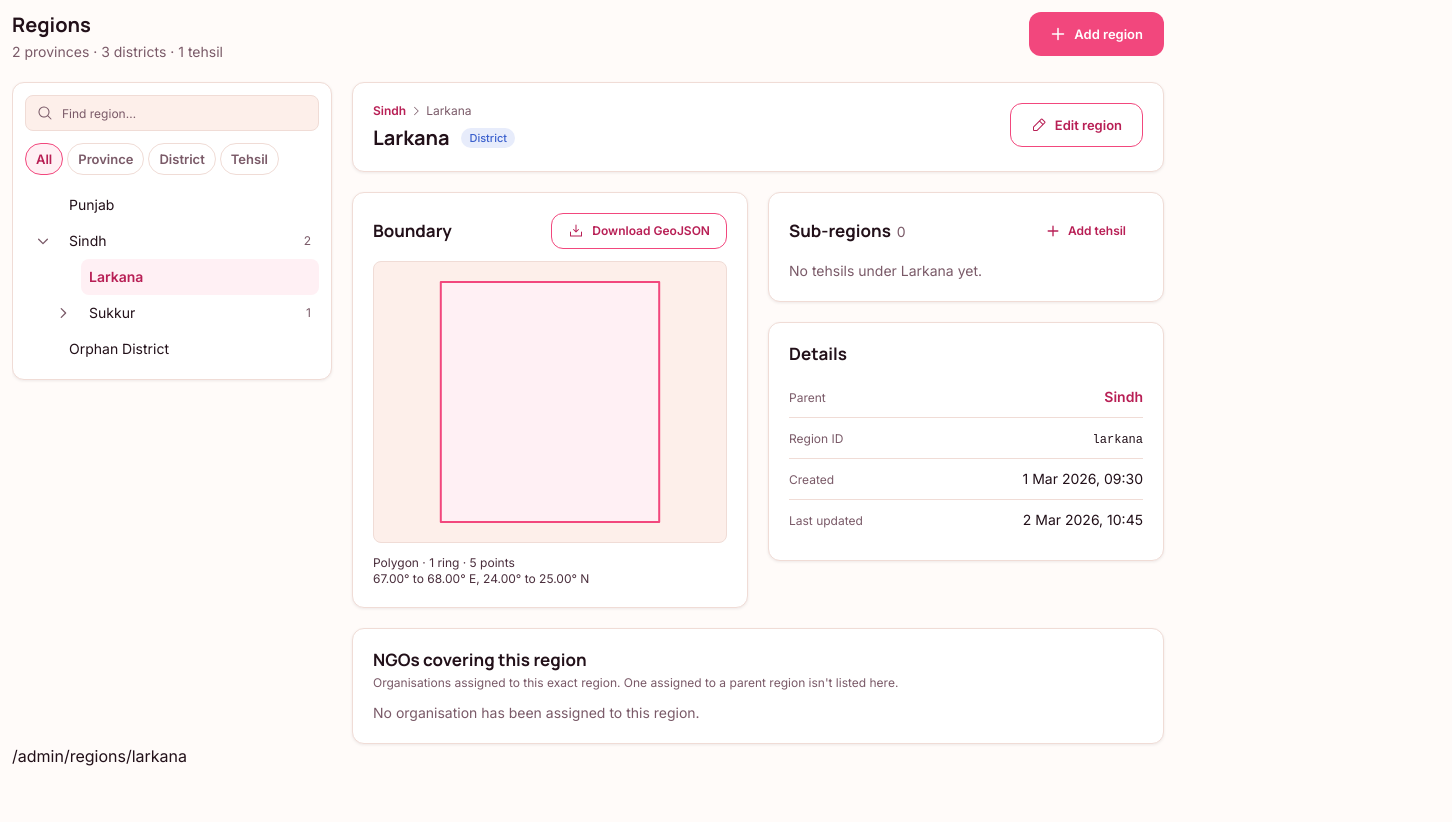
Scenario: RegionsPage — NGO coverage › says so when a region has no organisation, and asks again for each region selected — not for the tree
Expected: the text "No organisation has been assigned to this region." is shown, [373,704,700,721]
Click the 1st link "Sindh" at (390, 111), box [373,103,406,119]
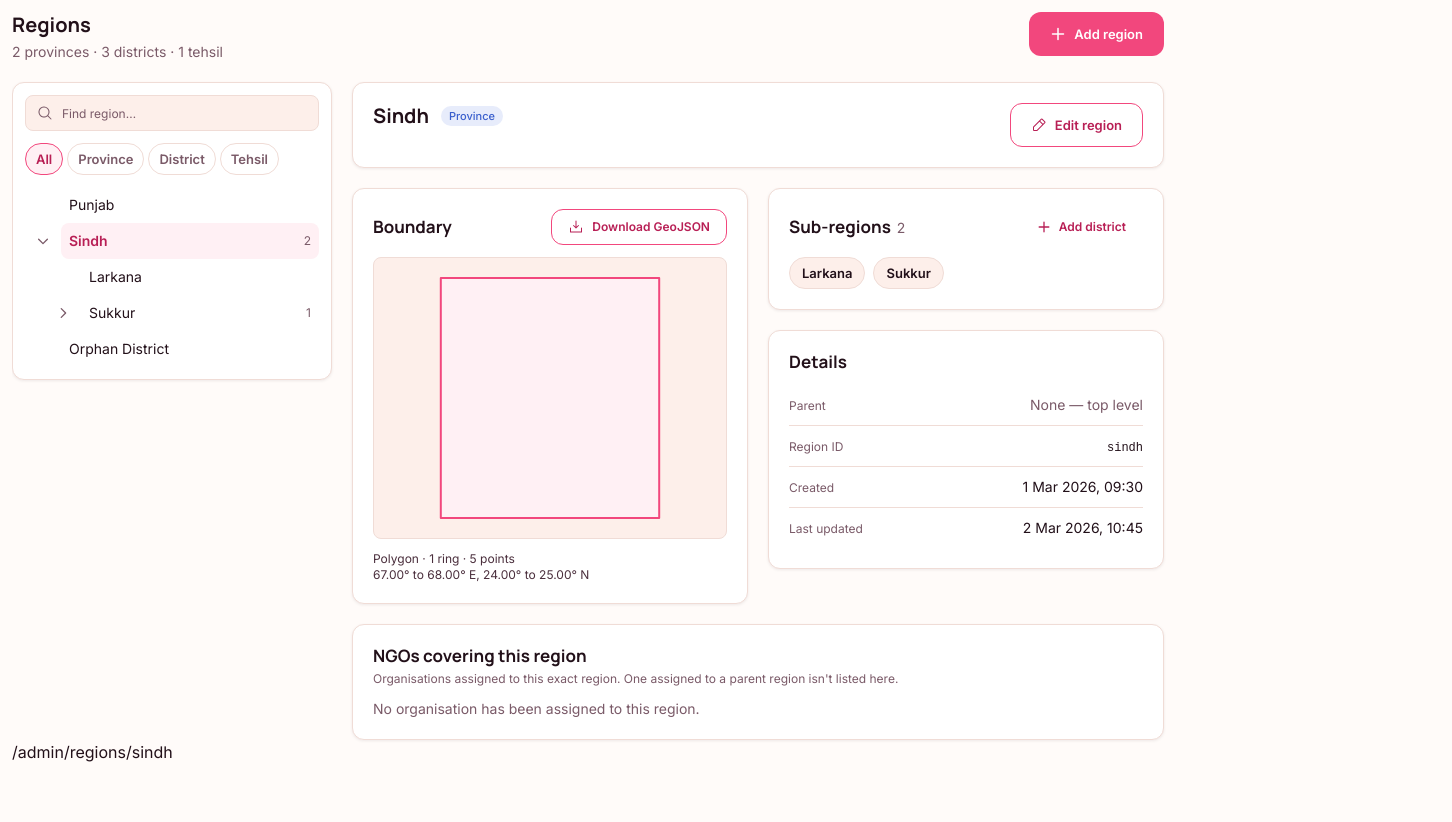
Expected: the heading "Sindh" is shown, [373,103,429,129]
